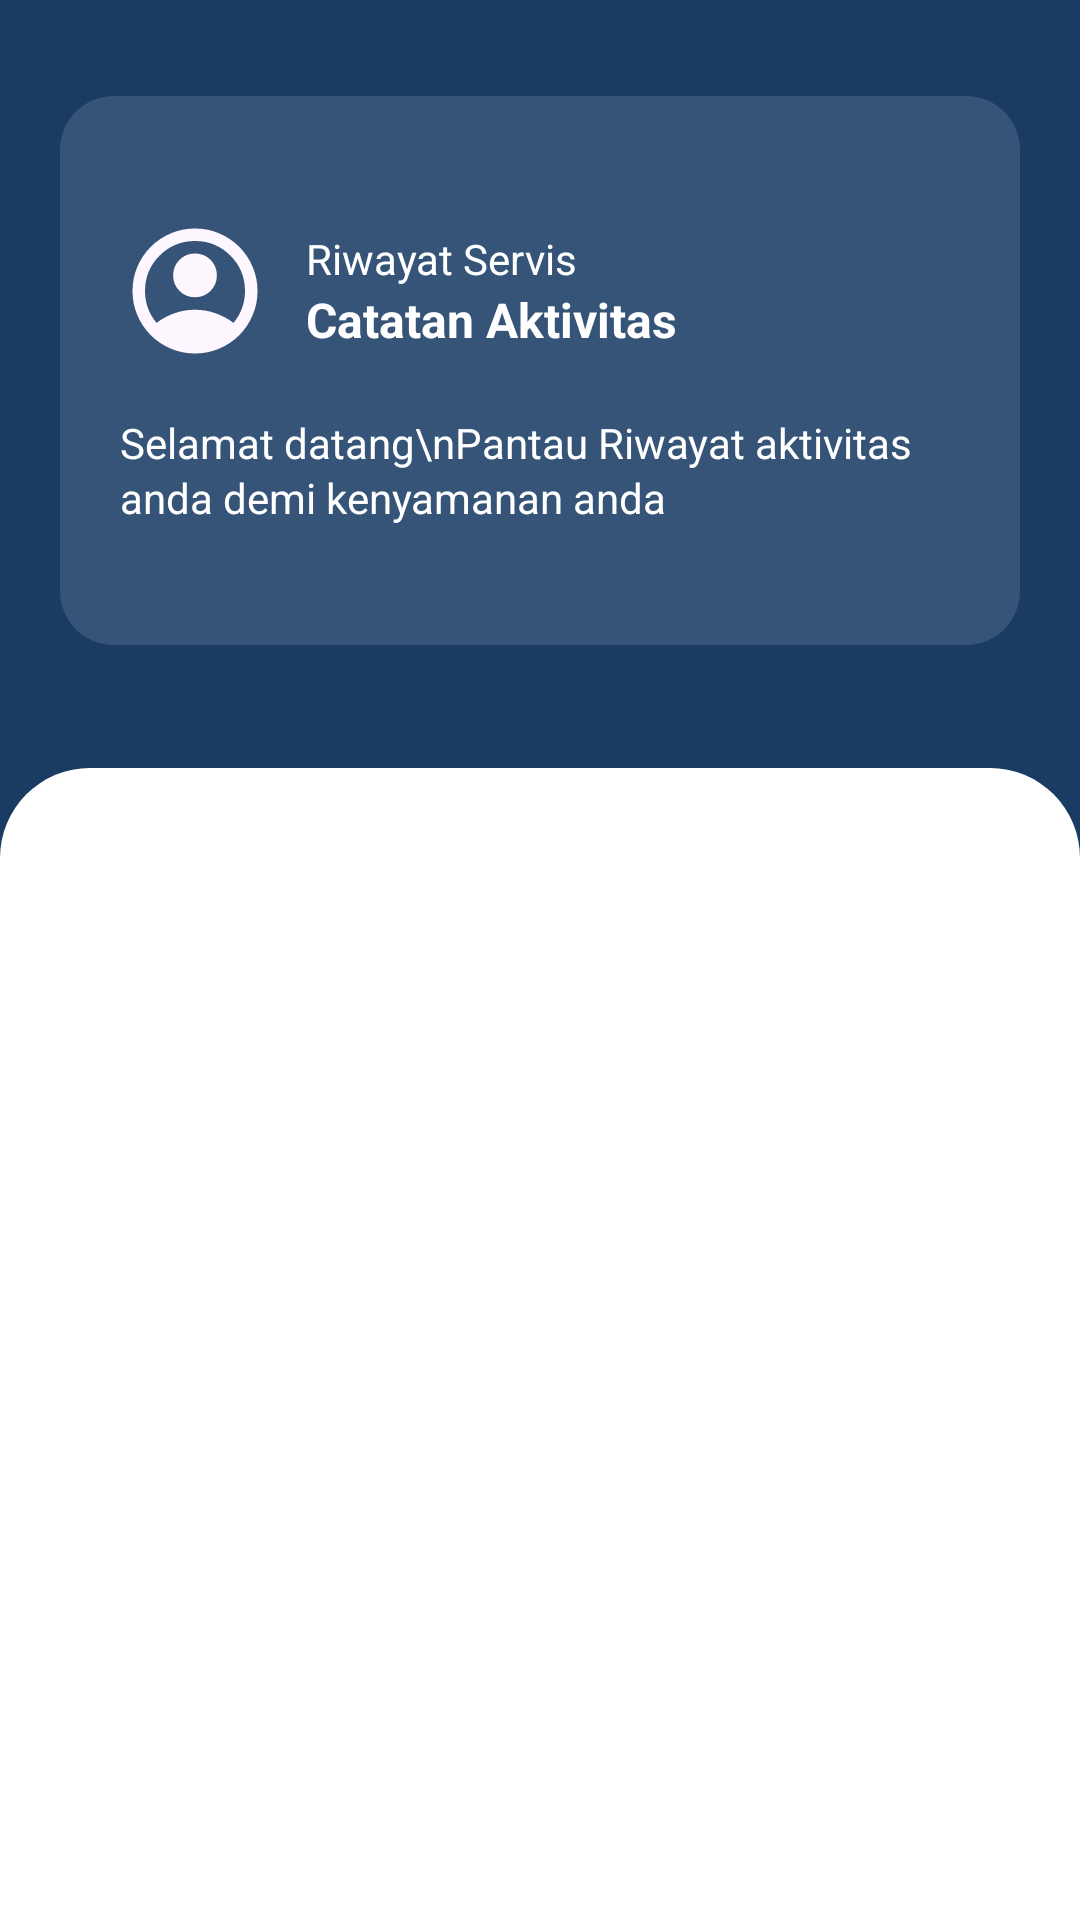

Where icons sit on this 1080 x 1920 app screen, as (x1, y1, x2, y2):
User Profile Icon: (132, 228, 258, 354)
